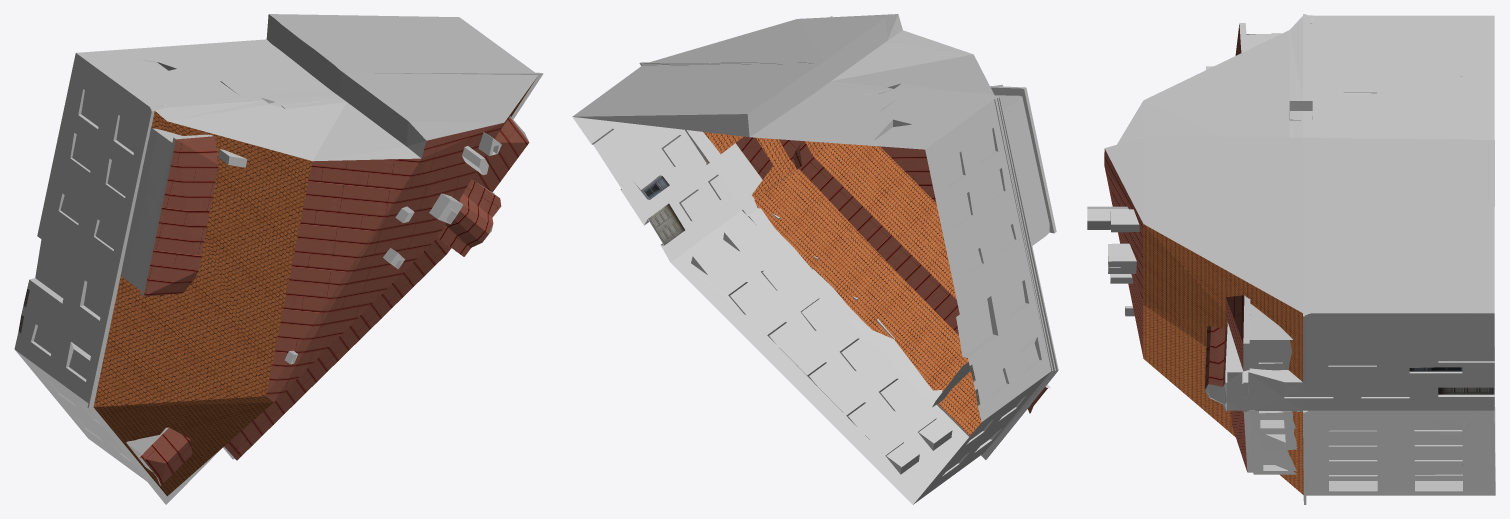
The model's file is Rahukohtu2-origo.obj.
The picture shows the model from 3 angles, left to right: view 1: azimuth 30°, elevation 25°; view 2: azimuth 150°, elevation 25°; view 3: azimuth 270°, elevation 25°; orthographic projection. The views are drawn at different scales.
Visible parts, largest first — view 1: RK2_Building; view 2: RK2_Building; view 3: RK2_Building.
Part boxes in pixels (<box>): RK2_Building: <box>14,14,543,504</box>; RK2_Building: <box>572,14,1058,504</box>; RK2_Building: <box>1087,14,1495,504</box>.
Bounding box in the file's own units: 28.75 × 24 × 18.42.
